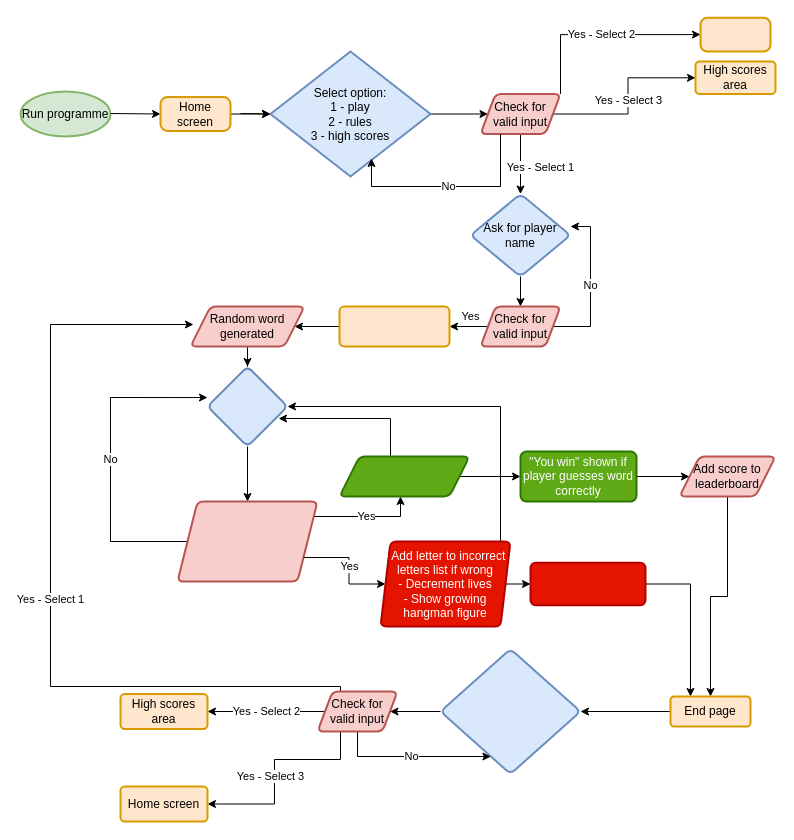
This 794x840 diagram has some shape labels left out. The centre of each missing label's shape, as x and y in pixels:
"You lose" shown if player is out of lives: (x=587, y=583)
Check: - For valid input - If letter is in word - If letter has been guessed: (x=247, y=541)
Increment score if guess is correct: (x=404, y=476)
Player guesses a letter: (x=247, y=406)
Rules area: (x=735, y=34)
Select option: 1 - play again 2 - view high scores 3 - quit: (x=510, y=711)
Welcome message to player: (x=394, y=326)
